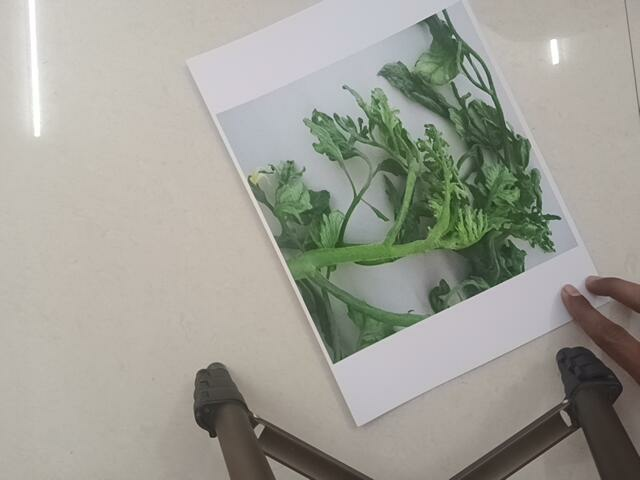Tomamto_Mosaic_virus: (238, 49, 564, 281)
